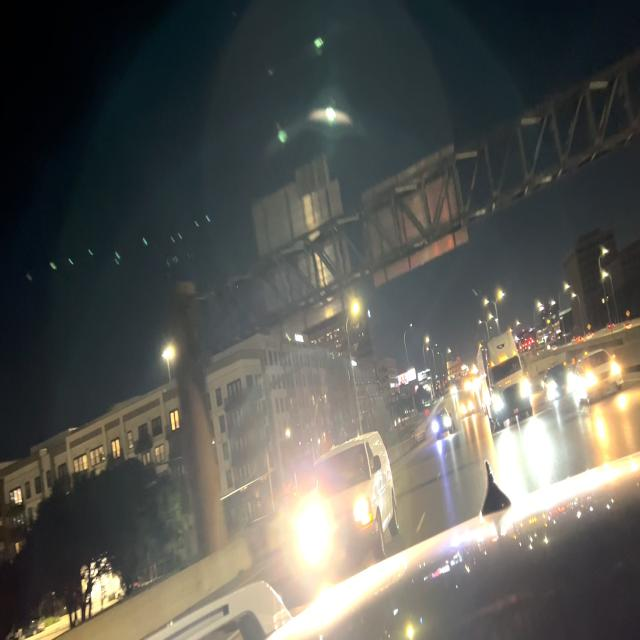back-of-sign: (250, 156, 354, 339), (364, 145, 470, 293)
